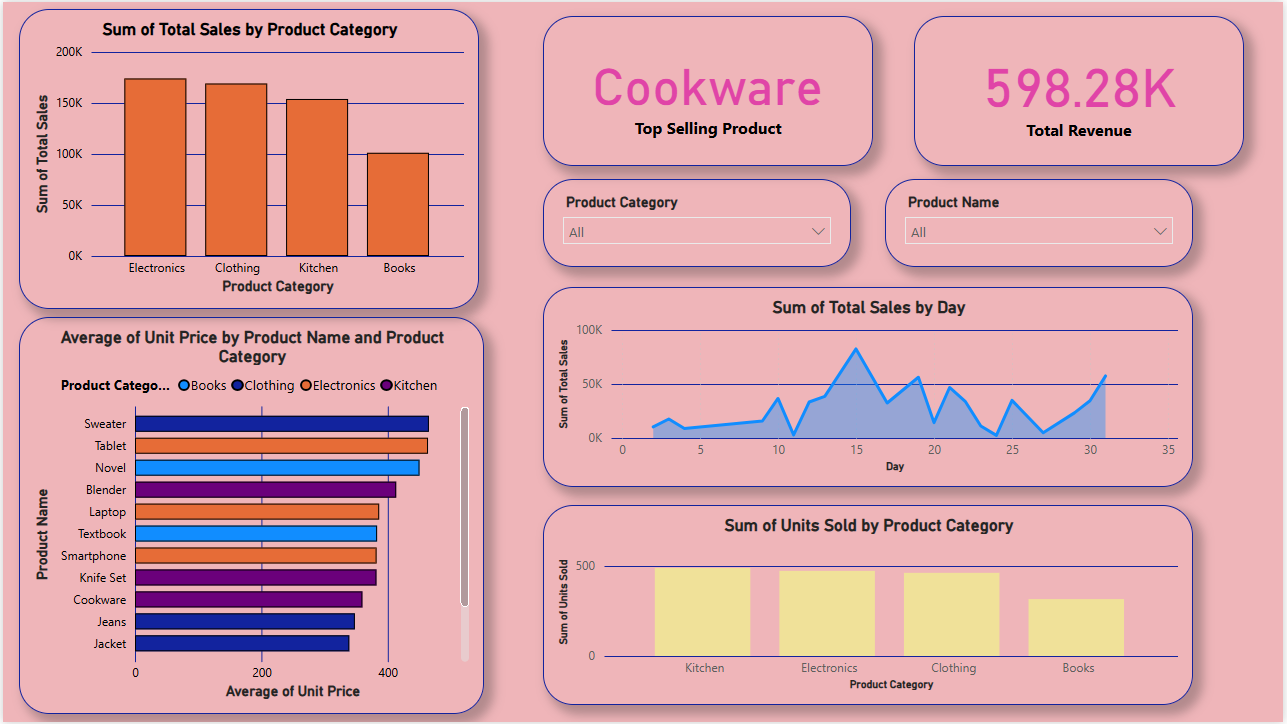

The dashboard page shown, as its layout file describes it:
{"tool":"powerbi","page":{"name":"Page 1","canvas":[1280,720],"ordinal":0},"visuals":[{"type":"columnChart","fields":{"Y":["Sum(Raw Data.Total Sales)"],"Category":["Raw Data.Product Category"]},"box":[16,7,460,300],"z":0},{"type":"card","fields":{"Values":["Raw Data.Top Selling Product"]},"box":[539.8,13.6,330,150],"z":1},{"type":"barChart","fields":{"Category":["Raw Data.Product Name"],"Y":["Avg(Raw Data.Unit Price)"],"Series":["Raw Data.Product Category"]},"box":[16,315,465,397],"z":2},{"type":"slicer","fields":{"Values":["Raw Data.Product Category"]},"box":[540,177,308,88],"z":3},{"type":"lineClusteredColumnComboChart","fields":{"Category":["Raw Data.Product Category"],"Y":["Sum(Raw Data.Units Sold)"]},"box":[540,503,650,200],"z":4},{"type":"card","fields":{"Values":["Raw Data.Total Revenue"]},"box":[911,14,330,150],"z":5},{"type":"areaChart","fields":{"Category":["Raw Data.Date.Variation.Date Hierarchy.Day"],"Y":["Sum(Raw Data.Total Sales)"]},"box":[540,285,650,200],"z":6},{"type":"slicer","fields":{"Values":["Raw Data.Product Name"]},"box":[882,177,308,88],"z":7}]}

Visuals, with their boxes in screenshot pixels (x1, y1, x2, y2), scaled from the page's 1280x720 canvas onto the 1287x724 screenshot:
columnChart - Sum(Raw Data.Total Sales) x Raw Data.Product Category: [16, 7, 479, 309]
card - Raw Data.Top Selling Product: [543, 14, 875, 165]
barChart - Raw Data.Product Name x Avg(Raw Data.Unit Price): [16, 317, 484, 716]
slicer - Raw Data.Product Category: [543, 178, 853, 266]
lineClusteredColumnComboChart - Raw Data.Product Category x Sum(Raw Data.Units Sold): [543, 506, 1197, 707]
card - Raw Data.Total Revenue: [916, 14, 1248, 165]
areaChart - Raw Data.Date.Variation.Date Hierarchy.Day x Sum(Raw Data.Total Sales): [543, 287, 1197, 488]
slicer - Raw Data.Product Name: [887, 178, 1197, 266]
